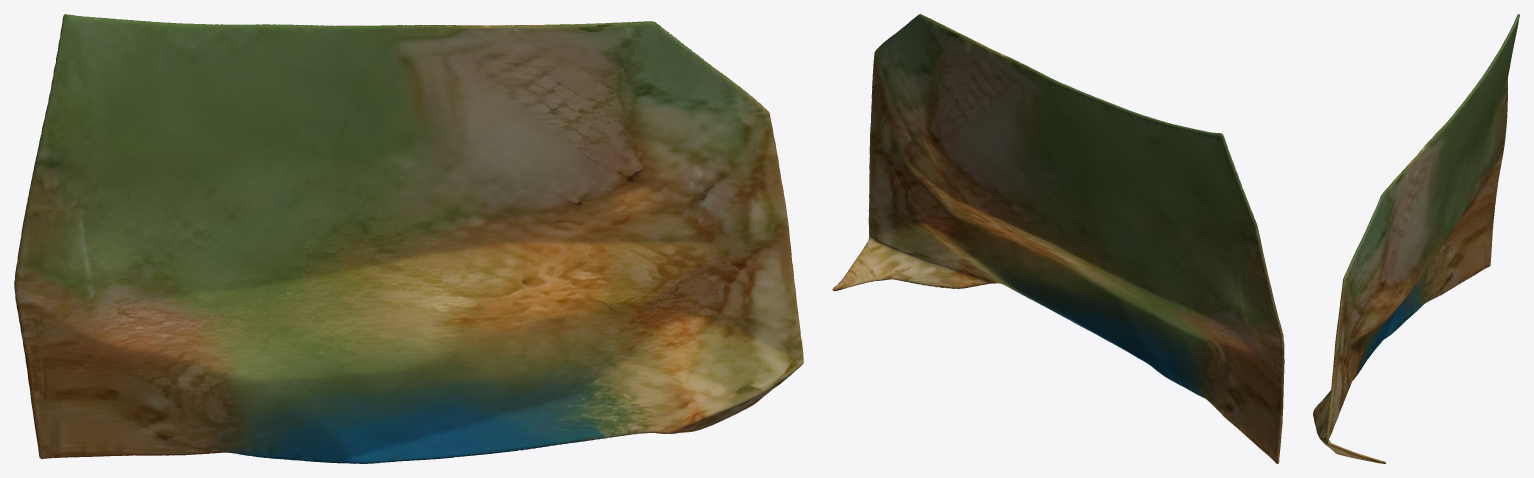
Rendered from squidward-sofa-xhs_mobile.glb.
3 renders of one model, left to right at view 1: azimuth 30°, elevation 25°; view 2: azimuth 150°, elevation 25°; view 3: azimuth 270°, elevation 25°, orthographic. The views are drawn at different scales.
Parts seen in each view (by area): view 1: textured; view 2: textured; view 3: textured.
Part boxes in pixels (bbox=[...]): textured: bbox=[14, 14, 803, 463]; textured: bbox=[832, 14, 1284, 463]; textured: bbox=[1313, 14, 1519, 463].
Bounding box in the file's own units: 2 × 1.24 × 0.8562.
1 material, 1 textured.
